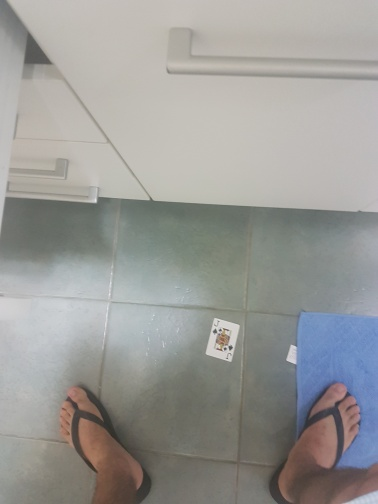jack: (204, 319, 240, 365)
